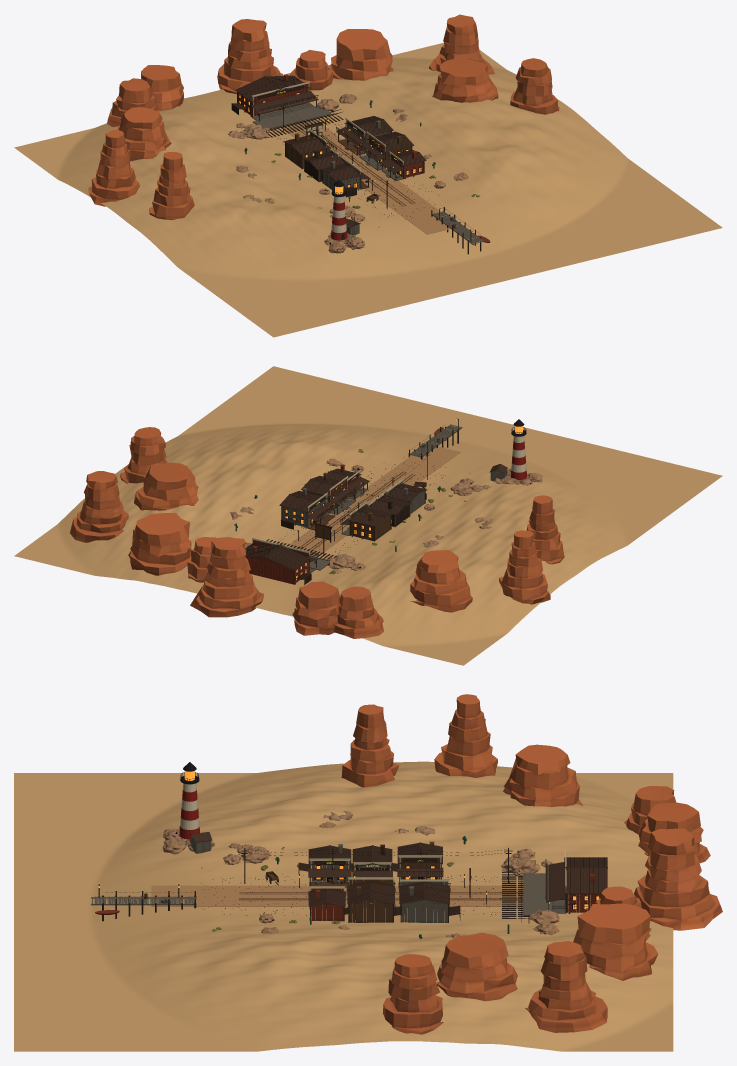
The model's file is town.glb.
3 renders of one model, top to bottom at view 1: azimuth 30°, elevation 25°; view 2: azimuth 150°, elevation 25°; view 3: azimuth 270°, elevation 25°, orthographic. The views are drawn at different scales.
Parts seen in each view (by area): view 1: ground, Rocks_baked, street, Station_baked, Props_baked, PictureHouse_baked, Saloon_baked, SheriffOffice_baked, Bank_baked, Telegraph_baked, Lighthouse_baked, Blacksmith_baked (+1 smaller); view 2: ground, Rocks_baked, street, Station_baked, Saloon_baked, Bank_baked, PictureHouse_baked, Props_baked, Lighthouse_baked, SheriffOffice_baked, Blacksmith_baked, Dock_baked (+1 smaller); view 3: ground, Rocks_baked, street, Station_baked, Props_baked, Saloon_baked, PictureHouse_baked, SheriffOffice_baked, Bank_baked, Lighthouse_baked, Telegraph_baked, Blacksmith_baked (+2 smaller).
Boxes of the visible parts, <box> form: ground: <box>14,42,722,337</box>; Rocks_baked: <box>88,14,559,253</box>; street: <box>281,118,459,234</box>; Station_baked: <box>231,74,318,121</box>; Props_baked: <box>244,100,455,228</box>; PictureHouse_baked: <box>357,131,414,170</box>; Saloon_baked: <box>336,116,393,155</box>; SheriffOffice_baked: <box>320,158,370,197</box>; Bank_baked: <box>283,129,336,169</box>; Telegraph_baked: <box>380,149,426,180</box>; Lighthouse_baked: <box>331,196,360,240</box>; Blacksmith_baked: <box>302,148,345,182</box>; ground: <box>14,366,722,665</box>; Rocks_baked: <box>70,427,564,638</box>; street: <box>288,446,460,557</box>; Station_baked: <box>245,537,318,584</box>; Saloon_baked: <box>279,488,336,530</box>; Bank_baked: <box>340,501,393,541</box>; PictureHouse_baked: <box>301,472,357,514</box>; Props_baked: <box>234,438,440,570</box>; Lighthouse_baked: <box>489,436,526,480</box>; SheriffOffice_baked: <box>383,479,427,513</box>; Blacksmith_baked: <box>366,493,411,527</box>; Dock_baked: <box>408,424,462,459</box>; ground: <box>14,761,673,1051</box>; Rocks_baked: <box>162,694,722,1034</box>; street: <box>151,885,523,906</box>; Station_baked: <box>545,849,607,913</box>; Props_baked: <box>144,836,551,938</box>; Saloon_baked: <box>398,879,460,922</box>; PictureHouse_baked: <box>346,877,404,922</box>; SheriffOffice_baked: <box>298,844,351,887</box>; Bank_baked: <box>391,841,443,888</box>; Lighthouse_baked: <box>179,783,212,853</box>; Telegraph_baked: <box>308,886,355,921</box>; Blacksmith_baked: <box>344,844,392,880</box>.
Size of what is drawn, in the model's own units: 121 by 18.93 by 129.
Materials: 23 (12 with a texture image).
